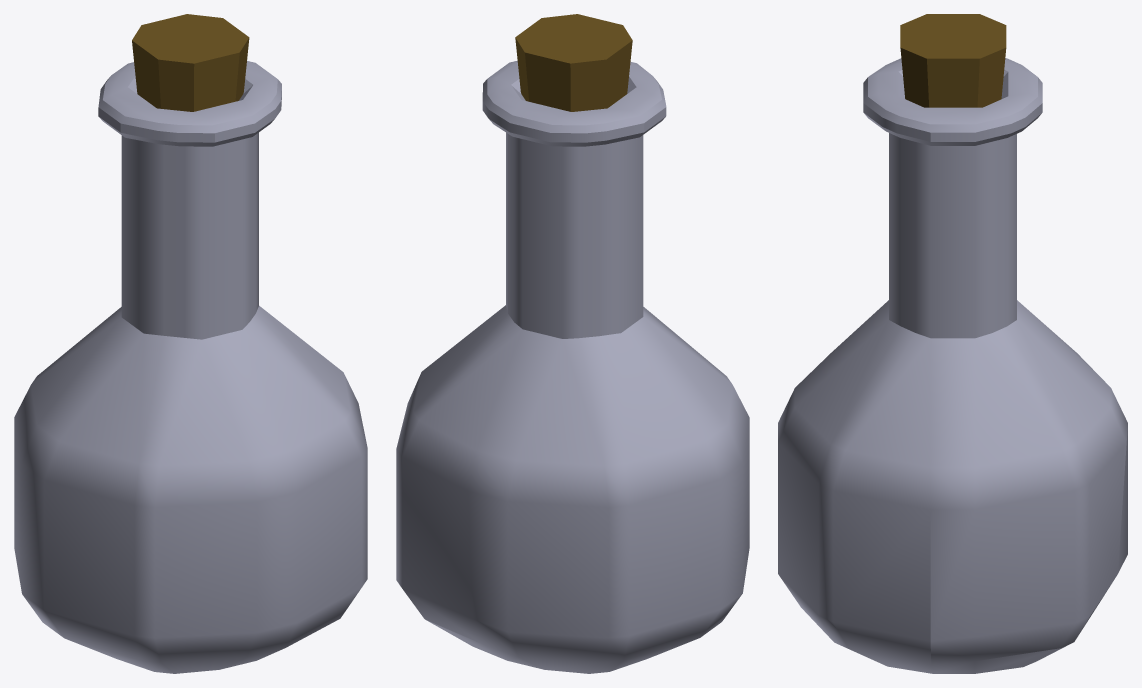
The model's file is Potion.fbx.
3 renders of one model, left to right at view 1: azimuth 30°, elevation 25°; view 2: azimuth 150°, elevation 25°; view 3: azimuth 270°, elevation 25°, orthographic.
Parts seen in each view (by area): view 1: polySurface1; view 2: polySurface1; view 3: polySurface1.
Boxes of the visible parts, x1,y1,x2,y2 form: polySurface1: (14,14,367,673); polySurface1: (396,14,749,673); polySurface1: (778,14,1127,673).
Size of the model in its own units: 0.3261 by 0.5871 by 0.3126.
